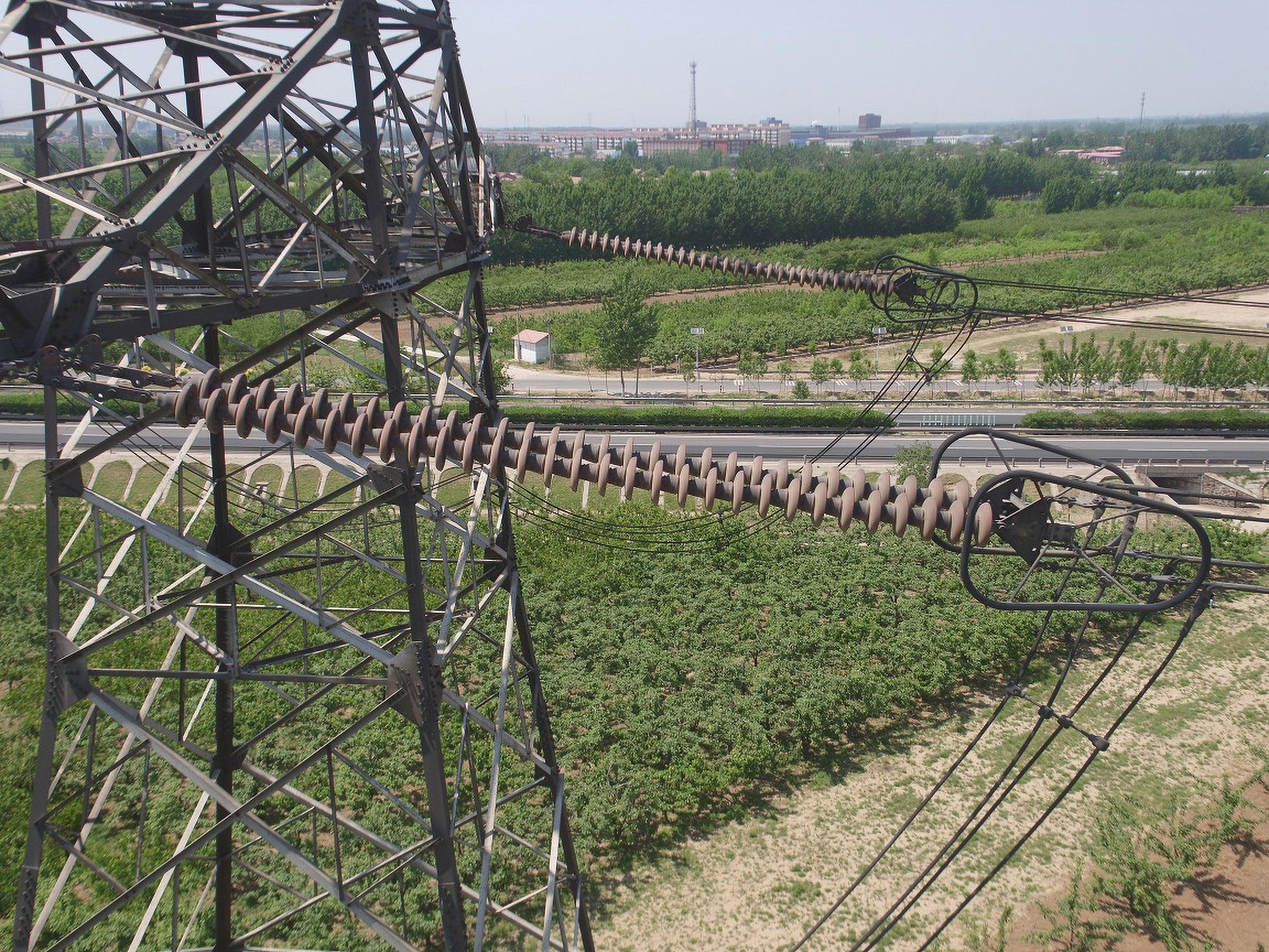insulator: (169, 364, 997, 554), (565, 224, 899, 300)
